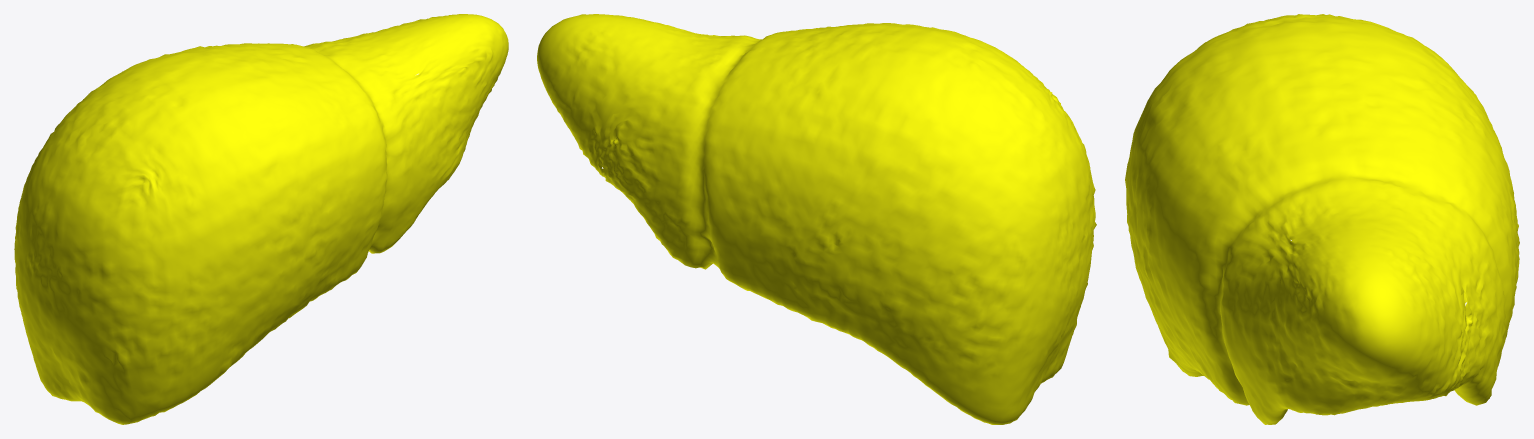
The model's file is liver.glb.
The picture shows the model from 3 angles, left to right: view 1: azimuth 30°, elevation 25°; view 2: azimuth 150°, elevation 25°; view 3: azimuth 270°, elevation 25°; orthographic projection. The views are drawn at different scales.
Visible parts, largest first — view 1: Cube; view 2: Cube; view 3: Cube.
Boxes of the visible parts, left/top/right/bottom form: Cube: left=14, top=14, right=508, bottom=424; Cube: left=537, top=14, right=1096, bottom=424; Cube: left=1125, top=14, right=1519, bottom=424.
Size of the model in its own units: 4.56 by 2.82 by 2.42.
1 material, 1 textured.
